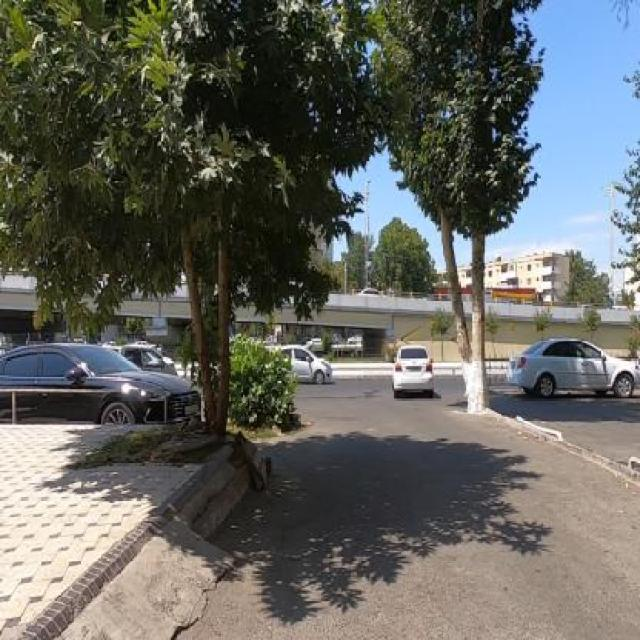tree trunk: (172, 196, 248, 444), (433, 194, 505, 434)
